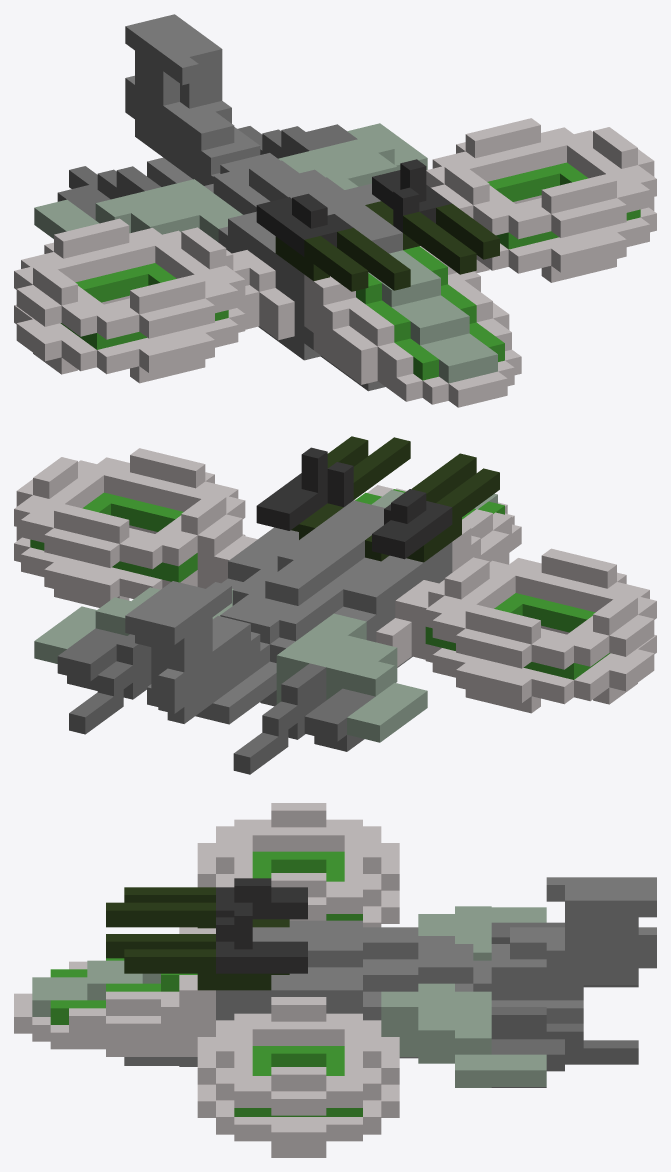
The model's file is infinity_airplane2.obj.
The picture shows the model from 3 angles, top to bottom: view 1: azimuth 30°, elevation 25°; view 2: azimuth 150°, elevation 25°; view 3: azimuth 270°, elevation 25°; orthographic projection. The views are drawn at different scales.
Size of the model in its own units: 3.7 by 1 by 3.5.
